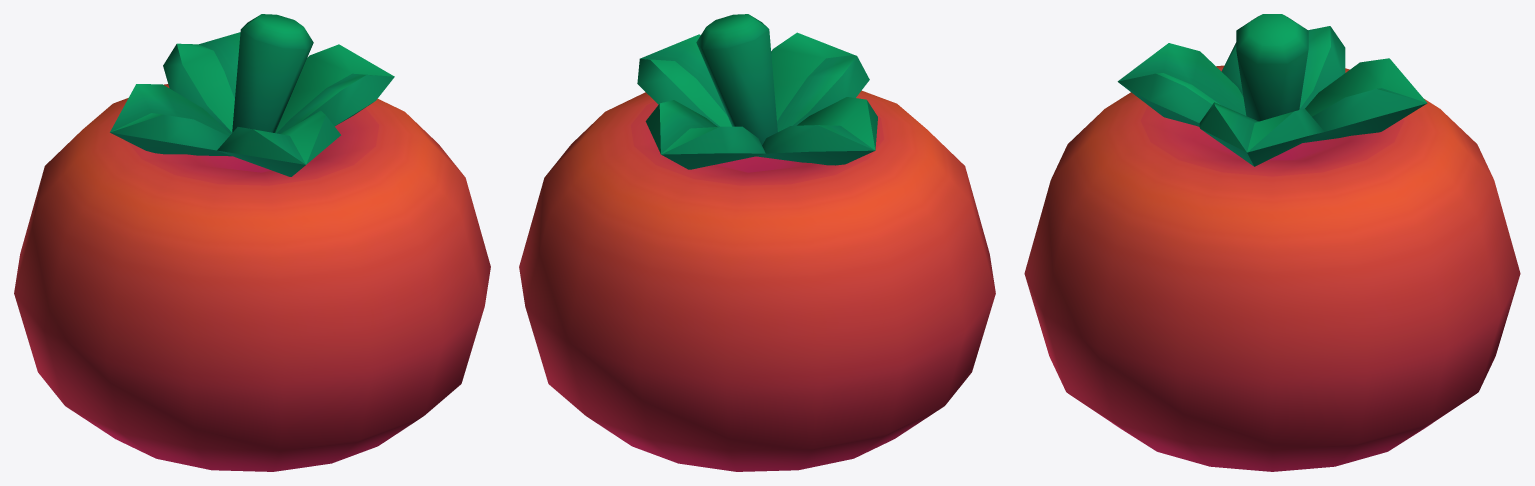
Rendered from tomato.glb.
3 views of the same model, side by side, from view 1: azimuth 30°, elevation 25°; view 2: azimuth 150°, elevation 25°; view 3: azimuth 270°, elevation 25° (orthographic). The views are drawn at different scales.
Visible parts, largest first — view 1: food_ingredient_tomato; view 2: food_ingredient_tomato; view 3: food_ingredient_tomato.
Part boxes in pixels (x1,y1,x2,y2): food_ingredient_tomato: (14,14,490,471); food_ingredient_tomato: (519,14,995,471); food_ingredient_tomato: (1024,14,1520,471).
Bounding box in the file's own units: 0.75 × 0.7 × 0.75.
Materials: 1 (1 with a texture image).
